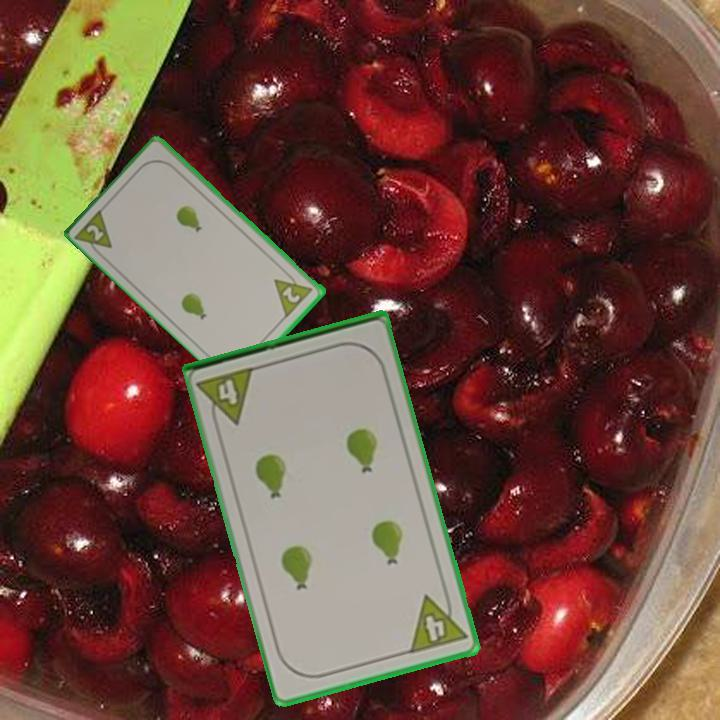2p: (72, 204, 116, 261), (271, 266, 316, 319)
4p: (406, 586, 470, 657), (195, 363, 259, 432)
